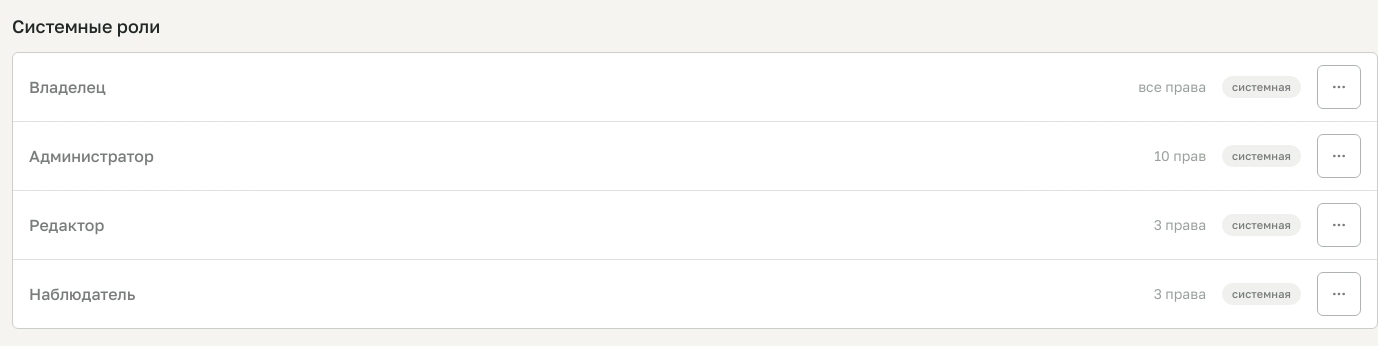
Scenario: SystemRolesSection › action menu shows «Дублировать» but NOT «Удалить» for system rows
Click the button named "Действия для роли" at (1339, 87), box [1317,65,1361,109]
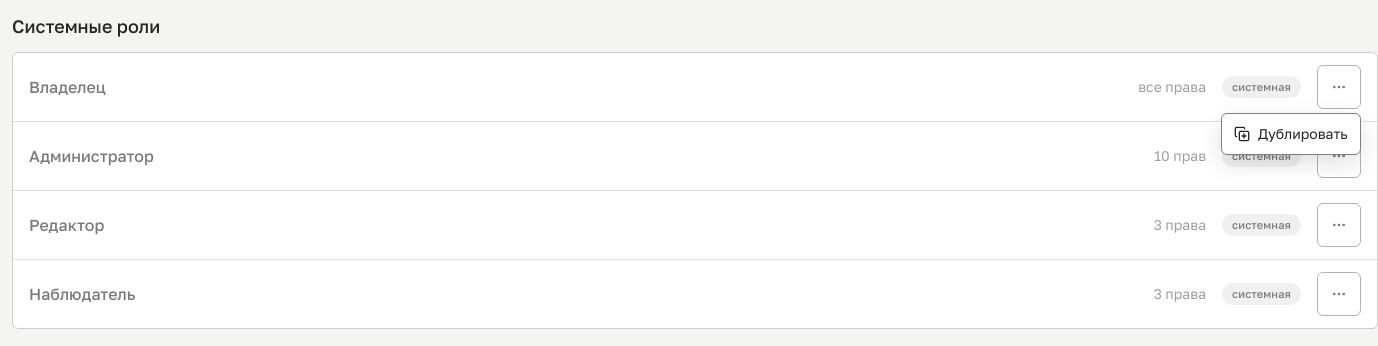
Expected: the menu item "Дублировать" is shown, [1234,125,1348,142]
